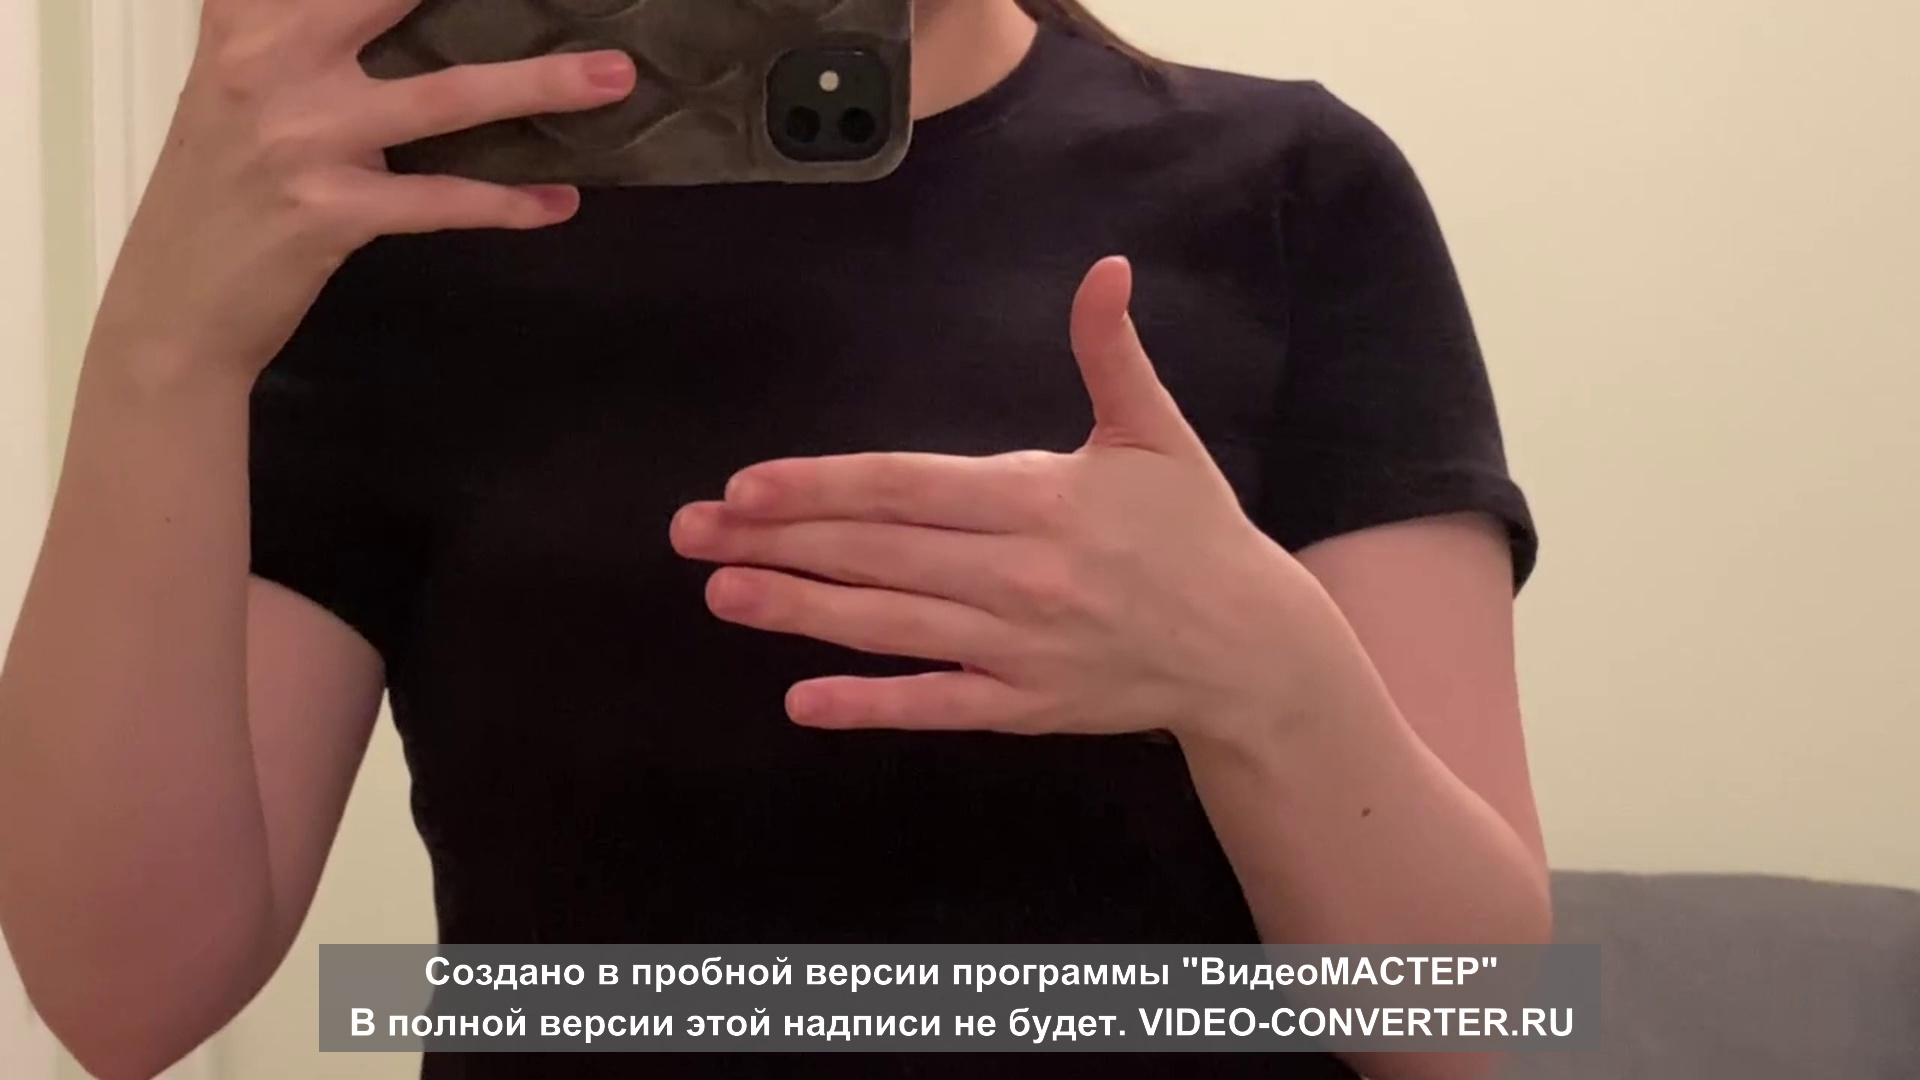Кисть: (665, 245, 1238, 740)
